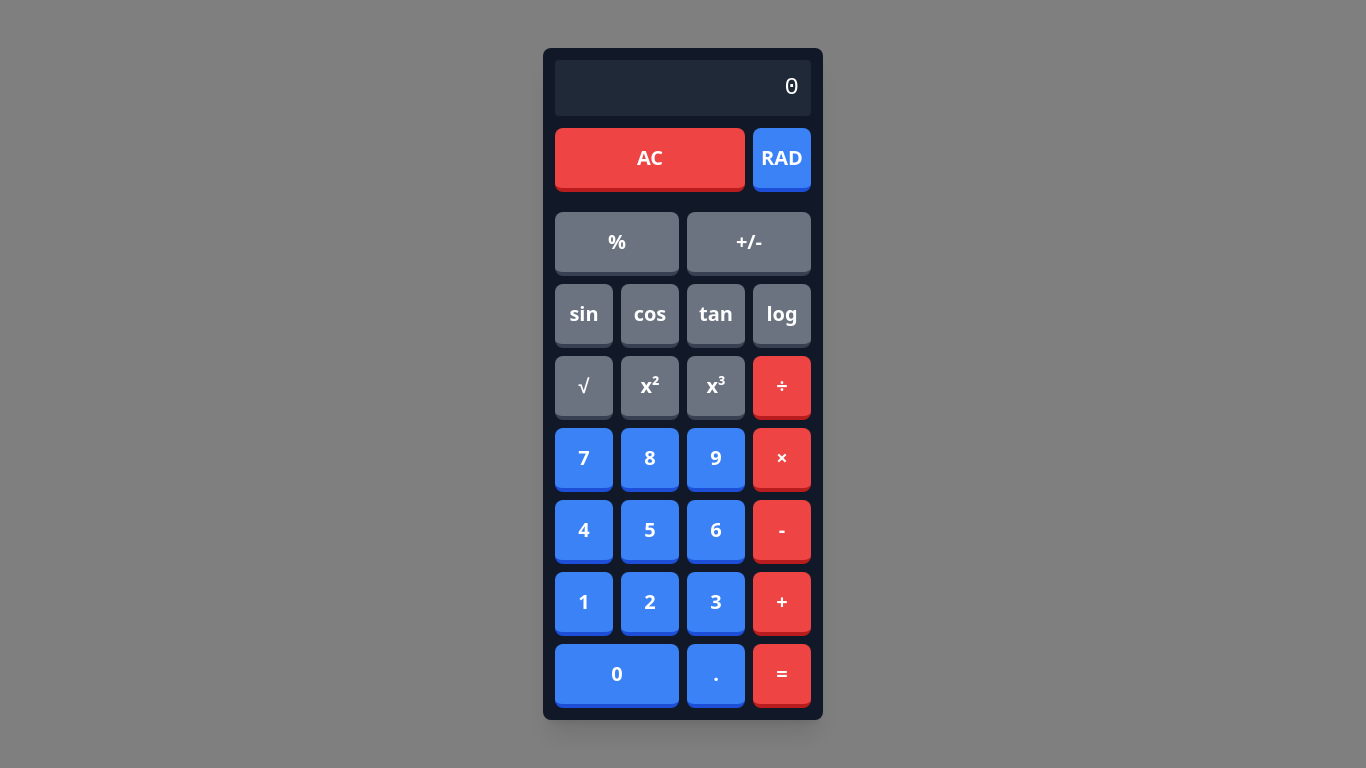
Calculator › displays numbers when clicked
What coordinates should you click on to do the following:
click the button "1"
I would click on:
 (584, 604)
Its box is [555,572,613,636].
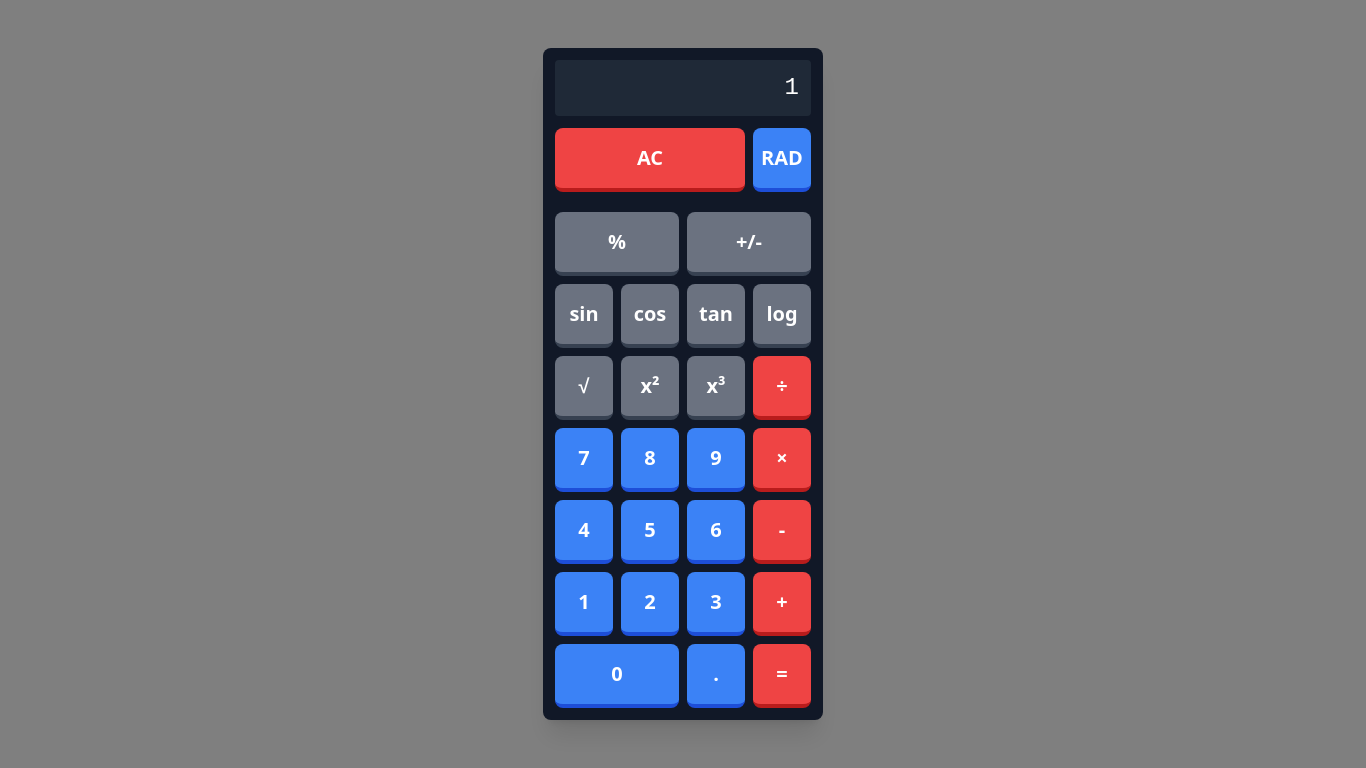
What coordinates should you click on to do the following:
click the button "2"
I would click on:
 (650, 604)
Its box is [621,572,679,636].
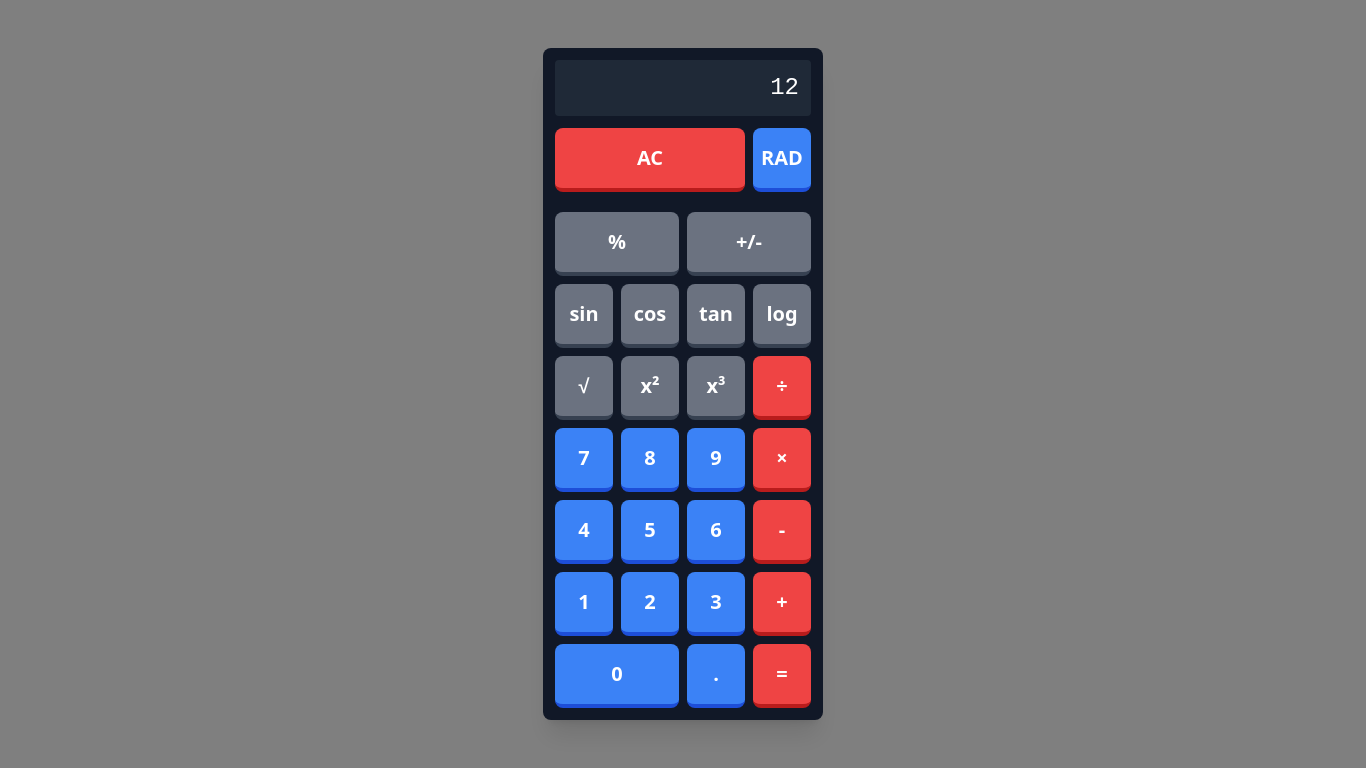
What coordinates should you click on to do the following:
click the button "3"
I would click on:
 (716, 604)
Its box is [687,572,745,636].
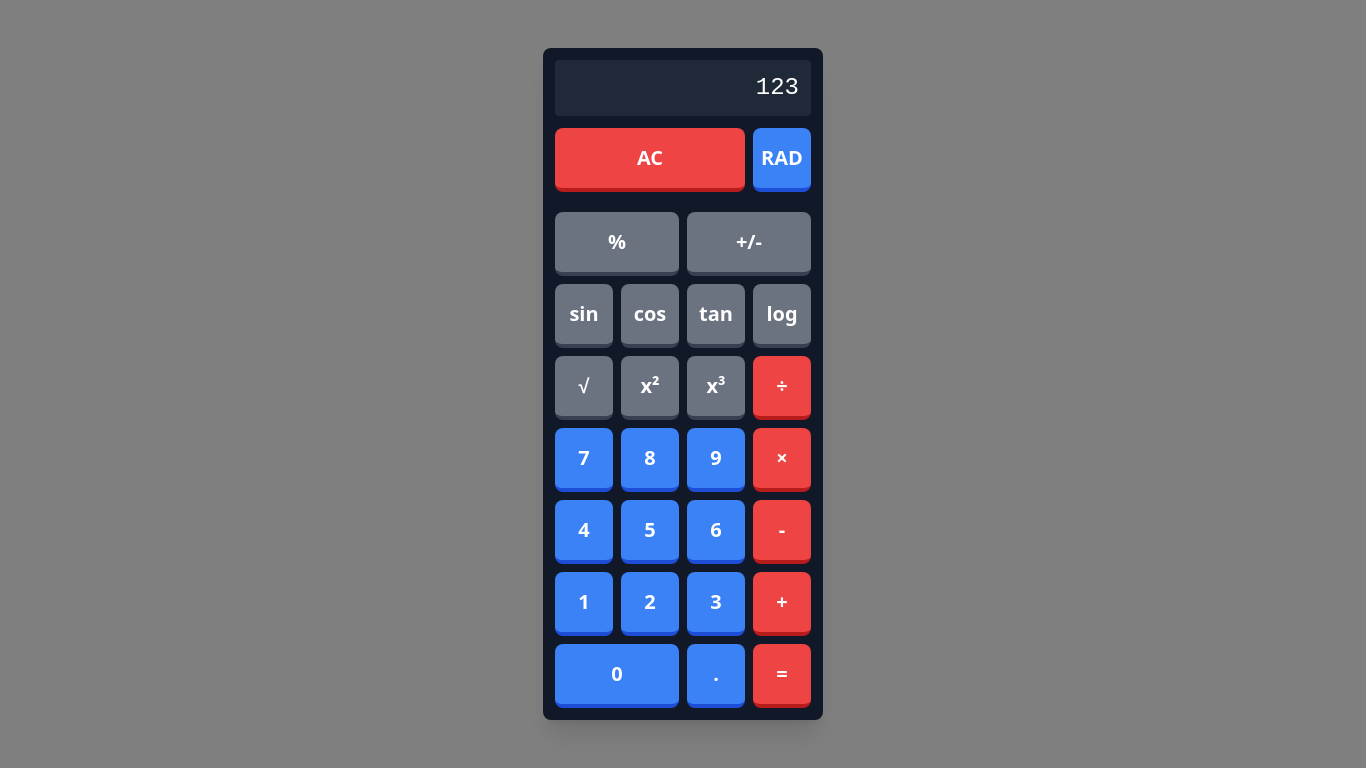
Result: the text with test id "calculator-display" reads "123" at [756,74,799,101]
